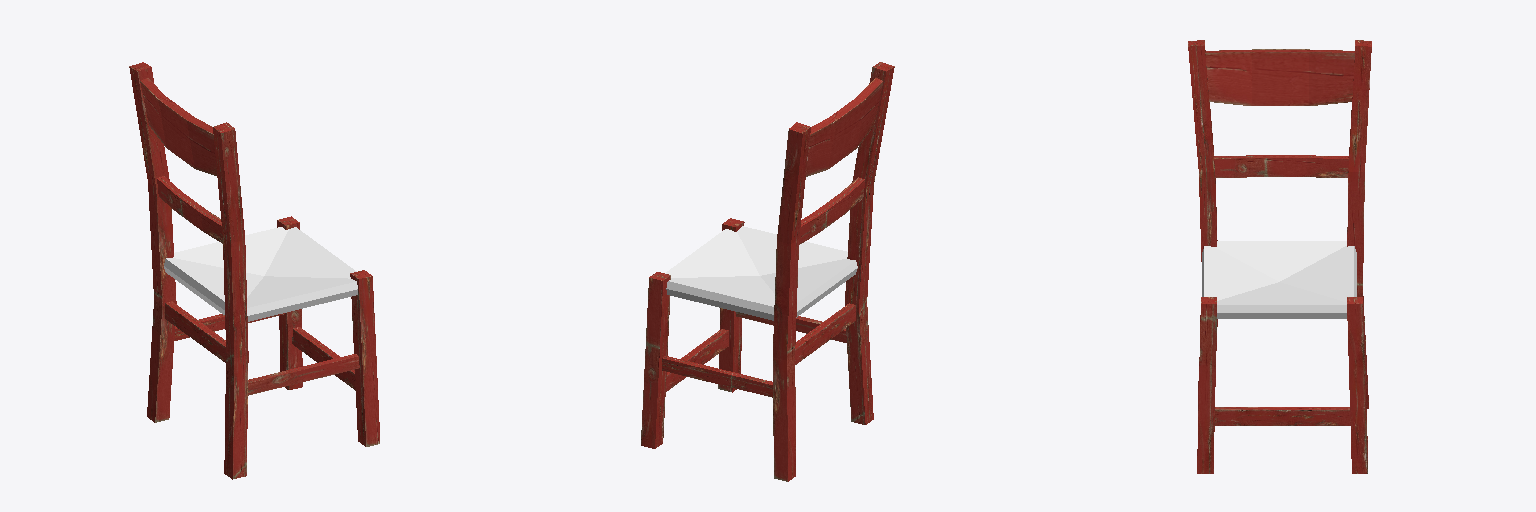
3 views of the same model, side by side, from view 1: azimuth 30°, elevation 25°; view 2: azimuth 150°, elevation 25°; view 3: azimuth 270°, elevation 25° (orthographic).
Parts seen in each view (by area): view 1: Box03, OilTank01; view 2: Box03, OilTank01; view 3: Box03, OilTank01.
Part boxes in pixels (bbox=[...]): Box03: bbox=[129, 62, 379, 479]; OilTank01: bbox=[164, 227, 357, 321]; Box03: bbox=[641, 62, 894, 481]; OilTank01: bbox=[665, 226, 857, 320]; Box03: bbox=[1188, 40, 1371, 473]; OilTank01: bbox=[1202, 241, 1356, 318].
Bounding box in the file's own units: 0.466 × 0.9529 × 0.4463.
2 materials, 1 textured.